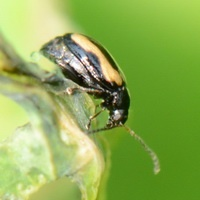insect: (40, 33, 159, 173)
